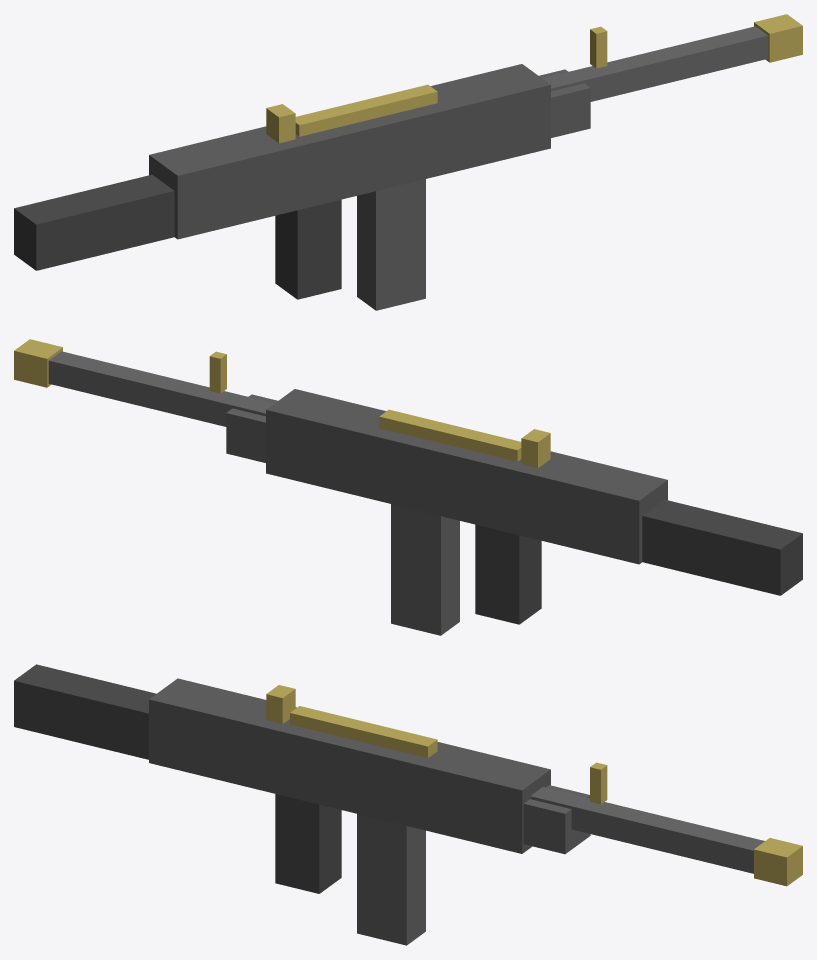
Rendered from scar.glb.
The picture shows the model from 3 angles, top to bottom: view 1: azimuth 30°, elevation 25°; view 2: azimuth 150°, elevation 25°; view 3: azimuth 330°, elevation 25°; orthographic projection.
Visible parts, largest first — view 1: Scar; view 2: Scar; view 3: Scar.
Boxes of the visible parts, bbox=[...] form: Scar: bbox=[14, 14, 802, 310]; Scar: bbox=[14, 339, 802, 635]; Scar: bbox=[14, 664, 802, 945].
Size of the model in its own units: 2.78 by 0.75 by 0.18.
